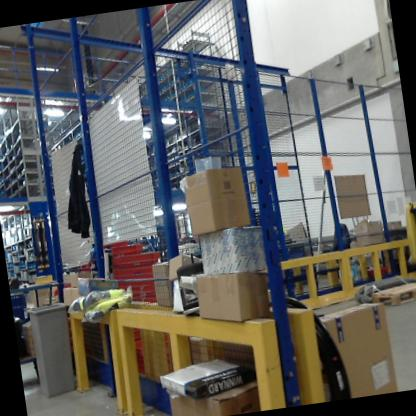pallet: (366, 282, 416, 308)
small_load_carrier: (119, 331, 203, 393)
